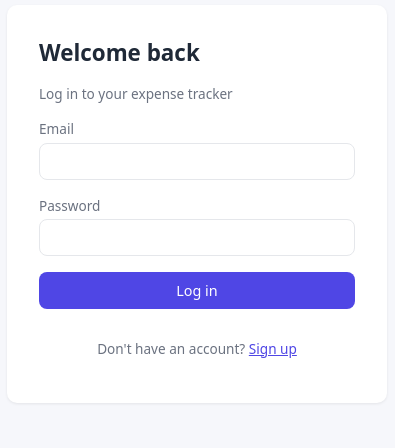
Test case: Login page › shows an error message when login fails
Type "user@example.com" into the field labelled "Email" at [197, 161], box [39,143,355,180]
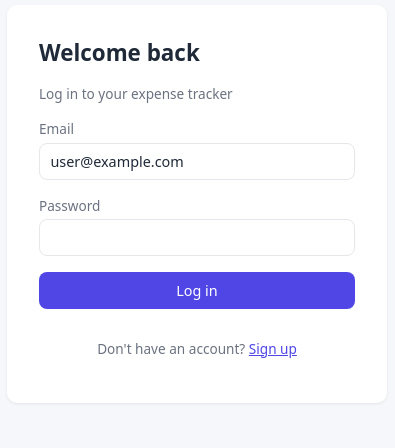
Type "wrongpass" into the password field labelled "Password" at [197, 238], box [39,219,355,256]
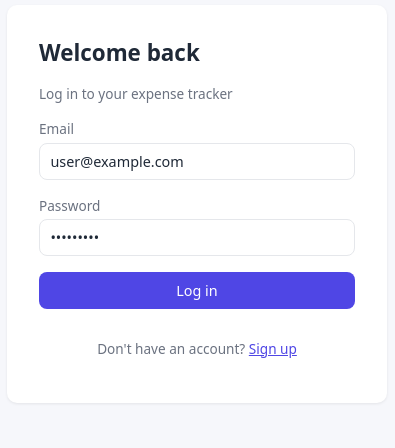
Click the button "Log in" at [197, 291], box [39,272,355,309]
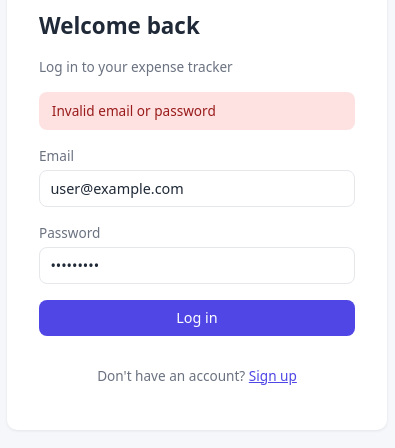
Now the text "Invalid email or password" is shown, box [39,92,355,130]
